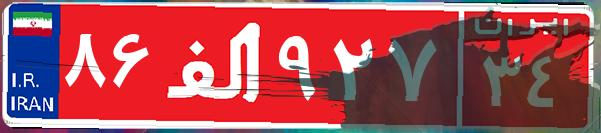2: (330, 28, 385, 110)
3: (475, 38, 525, 113)
4: (525, 38, 570, 115)
6: (110, 28, 158, 105)
7: (385, 28, 445, 110)
8: (57, 26, 110, 107)
9: (273, 28, 330, 110)
الف: (158, 15, 273, 115)
